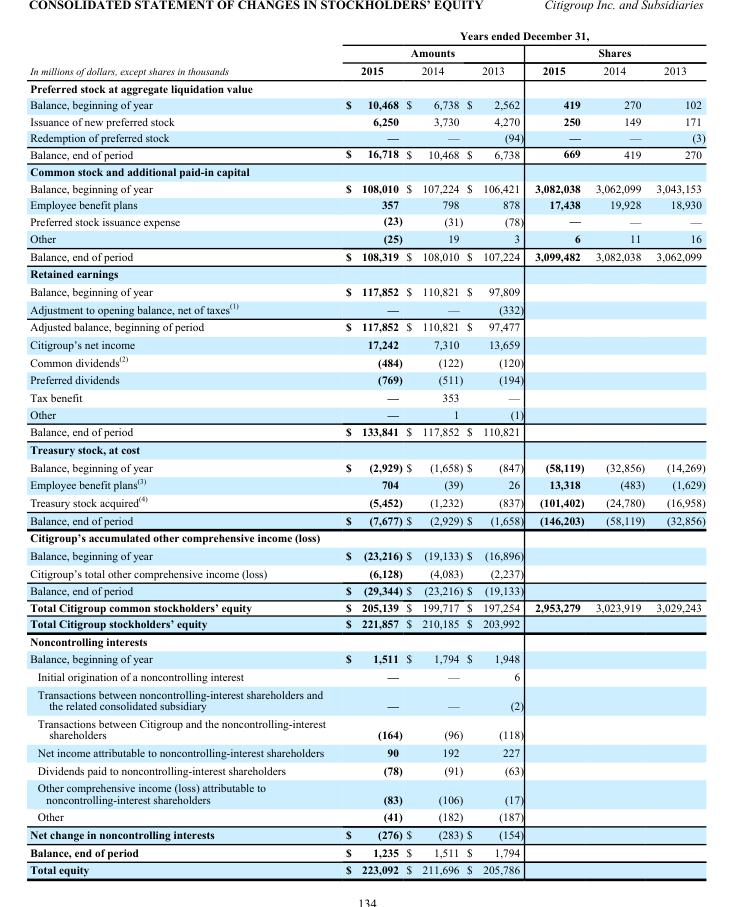table: (29, 28, 704, 875)
table column: (29, 28, 334, 875), (334, 28, 403, 875), (464, 28, 528, 875), (403, 28, 464, 875), (528, 28, 589, 875), (589, 28, 649, 875), (649, 28, 704, 875)
table column header: (29, 28, 704, 79)
table projected row header: (29, 264, 704, 282), (29, 528, 704, 546), (29, 79, 704, 96), (29, 162, 704, 179), (29, 440, 704, 457), (29, 632, 704, 649)
table row: (29, 685, 704, 714), (29, 714, 704, 743), (29, 778, 704, 807), (29, 43, 704, 61), (29, 61, 704, 79), (29, 246, 704, 264), (29, 264, 704, 282), (29, 299, 704, 317), (29, 317, 704, 335), (29, 352, 704, 370), (29, 370, 704, 388), (29, 422, 704, 440), (29, 474, 704, 492), (29, 492, 704, 510), (29, 510, 704, 528), (29, 528, 704, 546), (29, 563, 704, 581), (29, 649, 704, 667), (29, 667, 704, 685), (29, 760, 704, 778), (29, 807, 704, 825), (29, 842, 704, 860), (29, 79, 704, 96), (29, 112, 704, 129), (29, 145, 704, 162), (29, 162, 704, 179), (29, 179, 704, 196), (29, 212, 704, 229), (29, 229, 704, 246), (29, 282, 704, 299), (29, 335, 704, 352), (29, 388, 704, 405), (29, 405, 704, 422), (29, 440, 704, 457), (29, 457, 704, 474), (29, 546, 704, 563), (29, 581, 704, 598), (29, 598, 704, 615), (29, 615, 704, 632), (29, 632, 704, 649), (29, 743, 704, 760), (29, 825, 704, 842), (29, 96, 704, 112), (29, 129, 704, 145), (29, 196, 704, 212), (29, 28, 704, 43), (29, 860, 704, 875)
table spanning cell: (29, 28, 334, 79), (334, 28, 704, 43), (334, 43, 528, 61), (528, 43, 704, 61)
